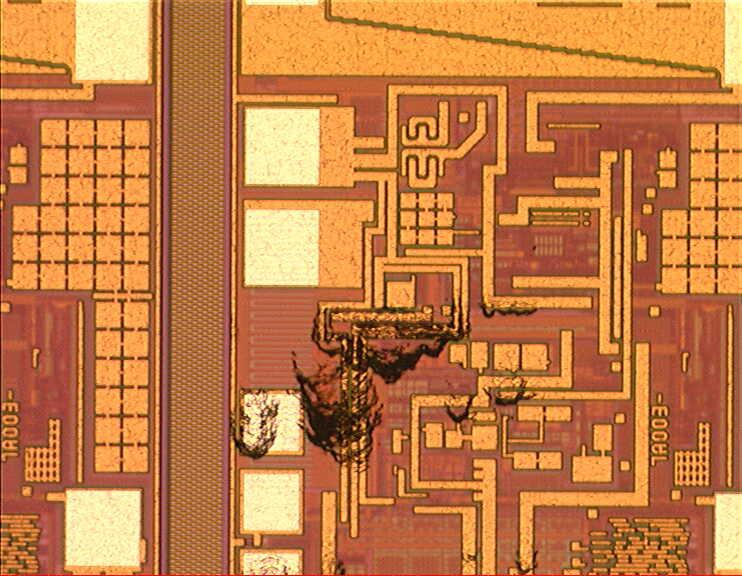SCRATCH: (224, 283, 547, 476)
